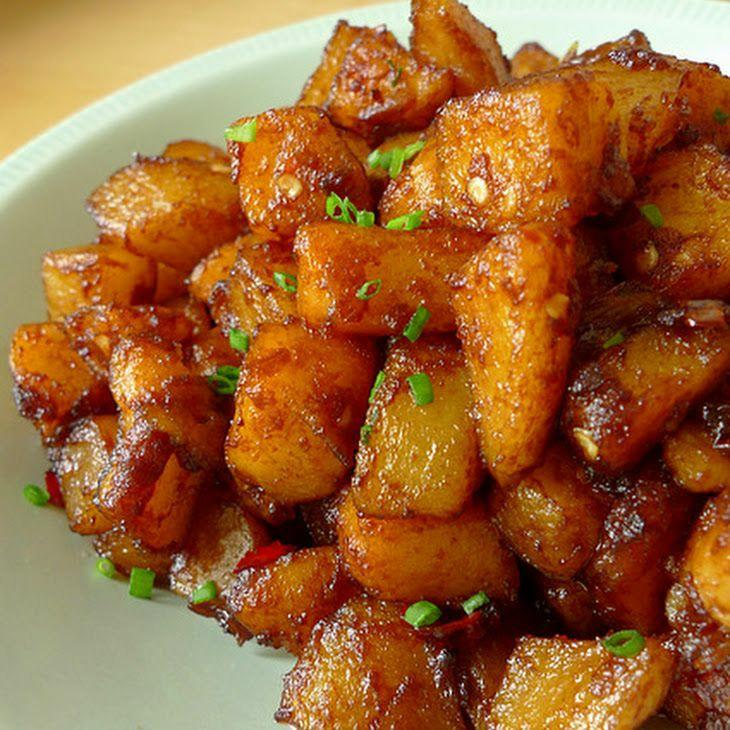AlooMasala: (11, 0, 730, 730)
